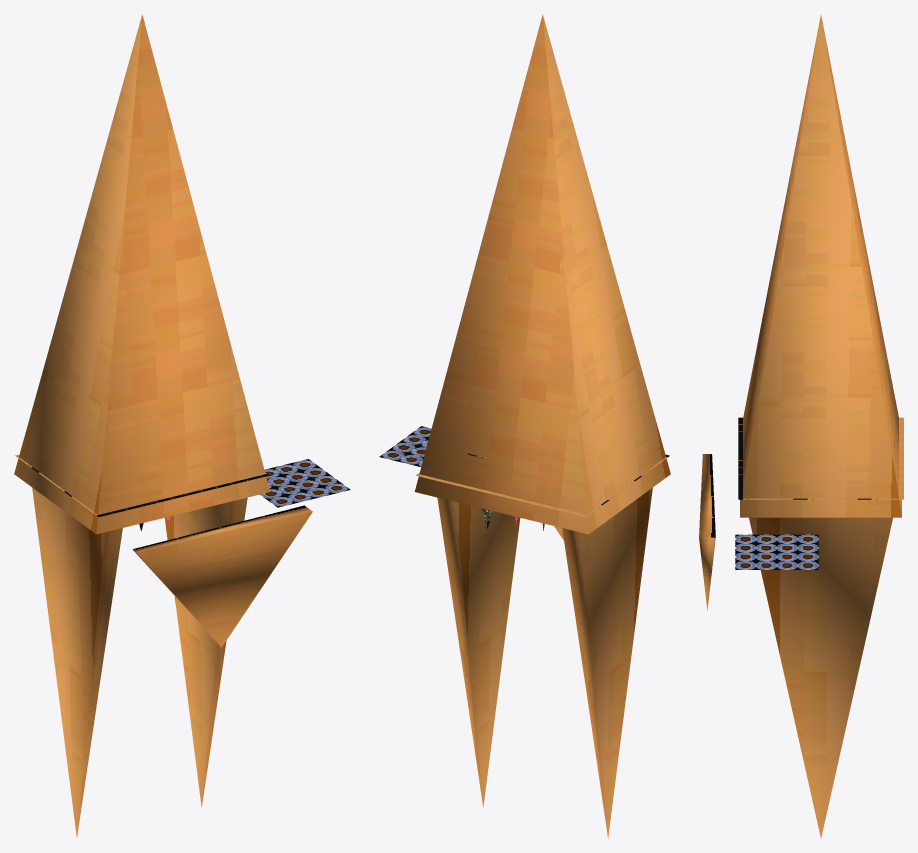
The model's file is 3381imig18_03.gltf.
The picture shows the model from 3 angles, left to right: view 1: azimuth 30°, elevation 25°; view 2: azimuth 150°, elevation 25°; view 3: azimuth 270°, elevation 25°; orthographic projection.
Visible parts, largest first — view 1: 3381imig18_03; view 2: 3381imig18_03; view 3: 3381imig18_03.
Part boxes in pixels (<box>): 3381imig18_03: <box>14,14,350,837</box>; 3381imig18_03: <box>379,14,670,838</box>; 3381imig18_03: <box>699,15,903,838</box>.
Bounding box in the file's own units: 0.8777 × 2.69 × 0.6277.
Materials: 4 (4 with a texture image).
